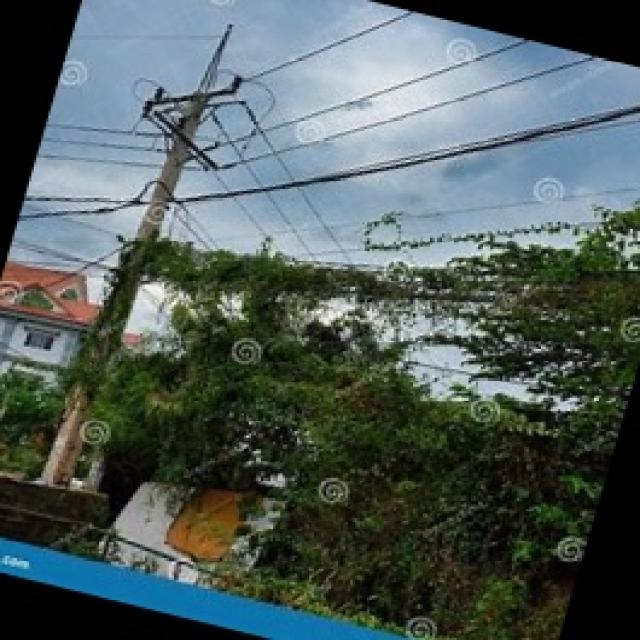critical vegetation: (144, 200, 634, 392)
